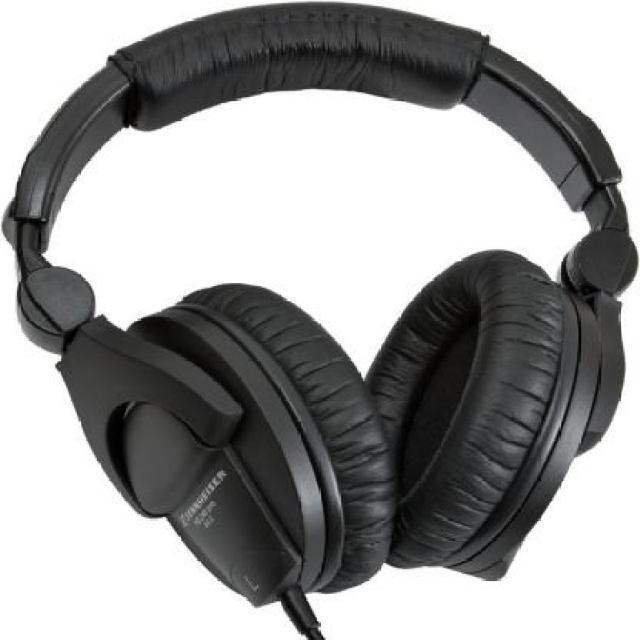earphone: (7, 0, 608, 582)
